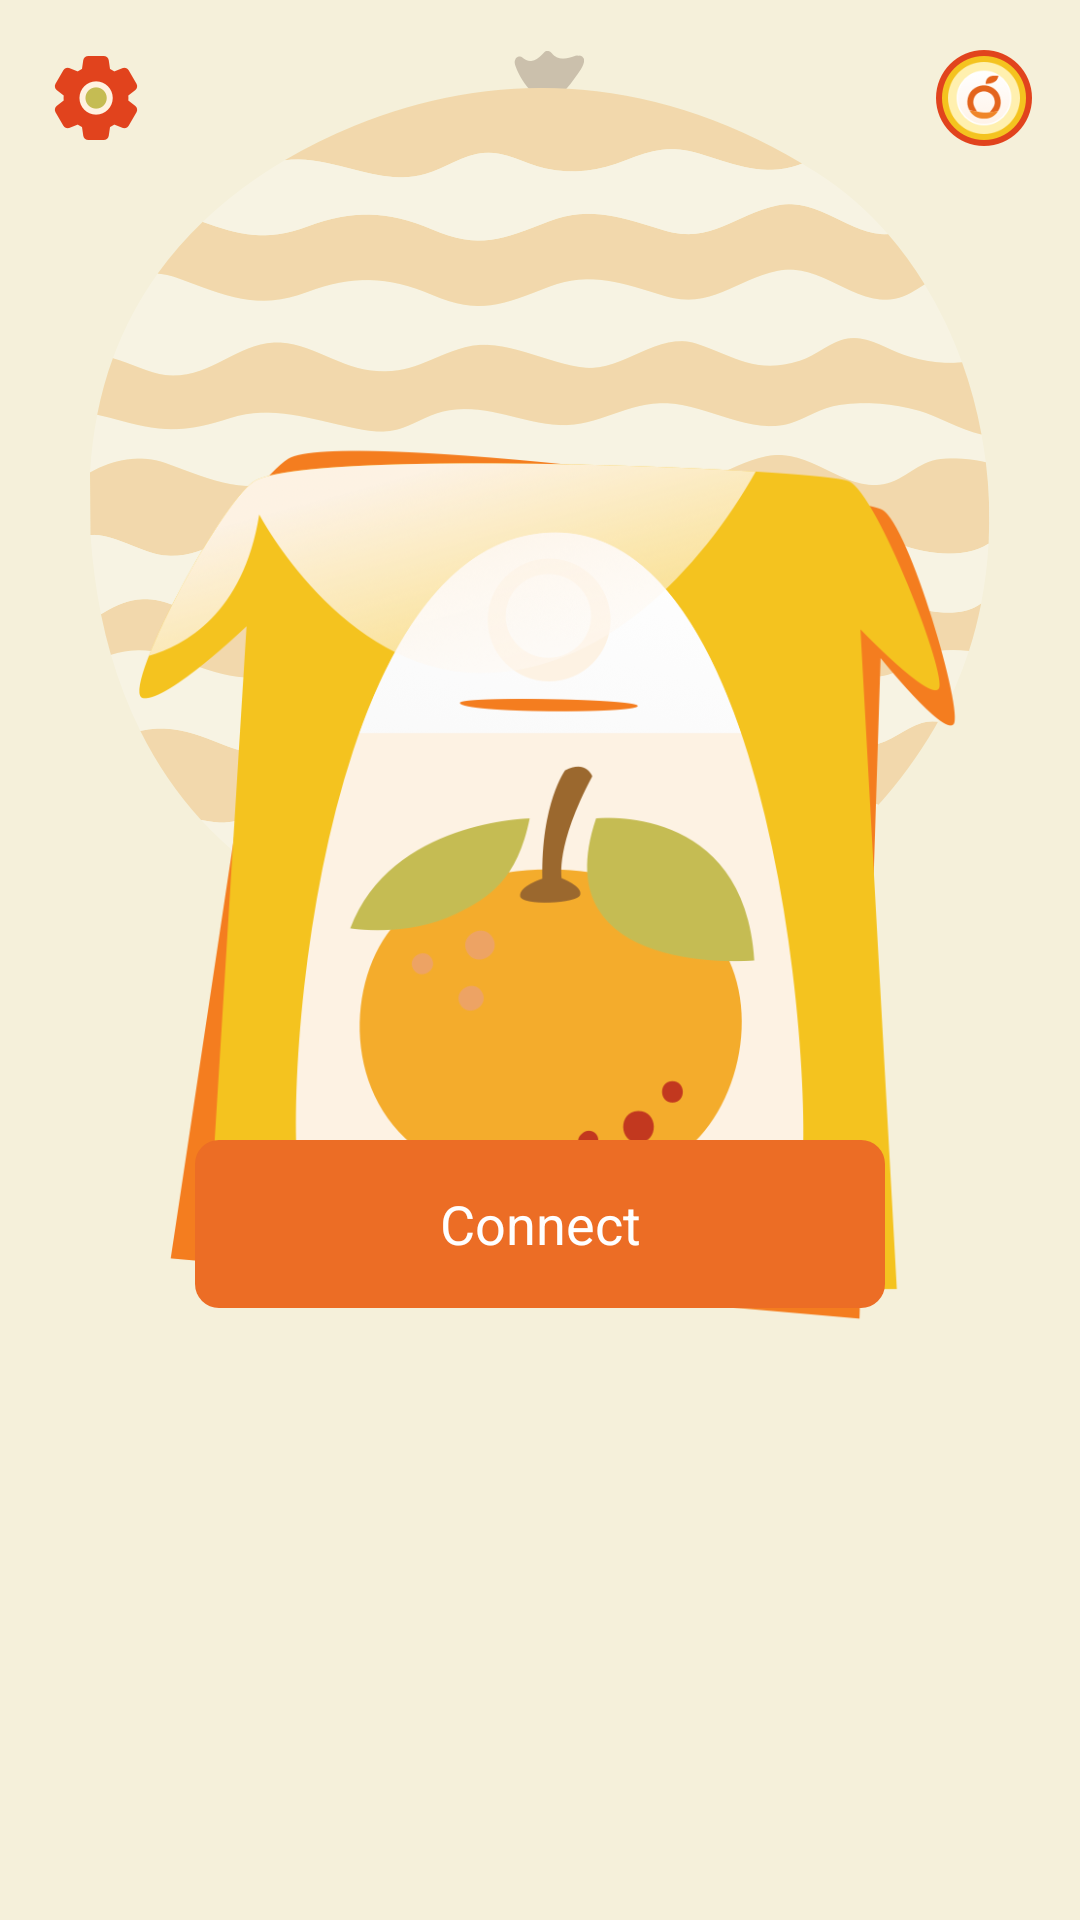

Named icons in this screenshot (1080x1920) and their bounding boxes, (x1, y1, x2, y2):
set: (55, 56, 137, 140)
